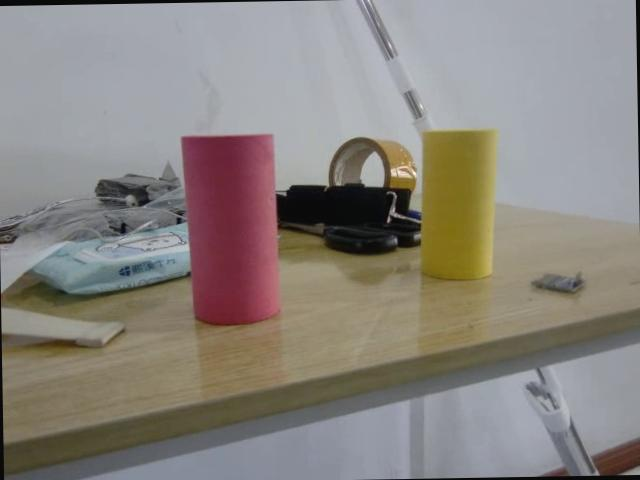red_cylinder: (182, 132, 280, 326)
yellow_cylinder: (419, 127, 500, 280)
